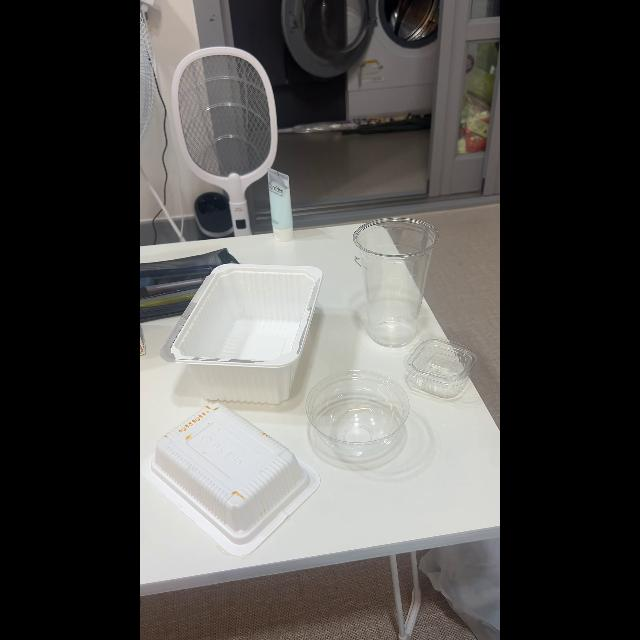clean: (186, 266, 322, 398), (352, 218, 438, 338), (305, 368, 411, 458), (402, 336, 478, 398)
dirty: (154, 402, 306, 536)
